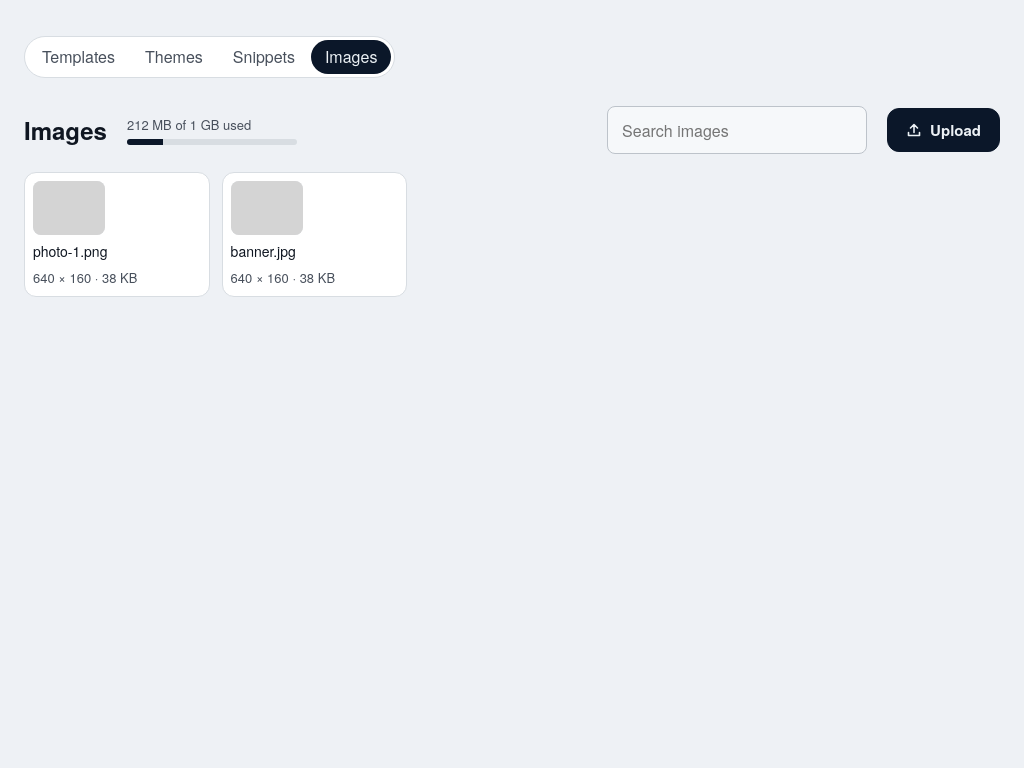
Test: the details sheet › shows the facts, a shortened hash, the link to copy and where the image is used
Click the button "banner.jpg 640 × 160 · 38 KB".
click(314, 234)  # box 222,172 -> 407,296
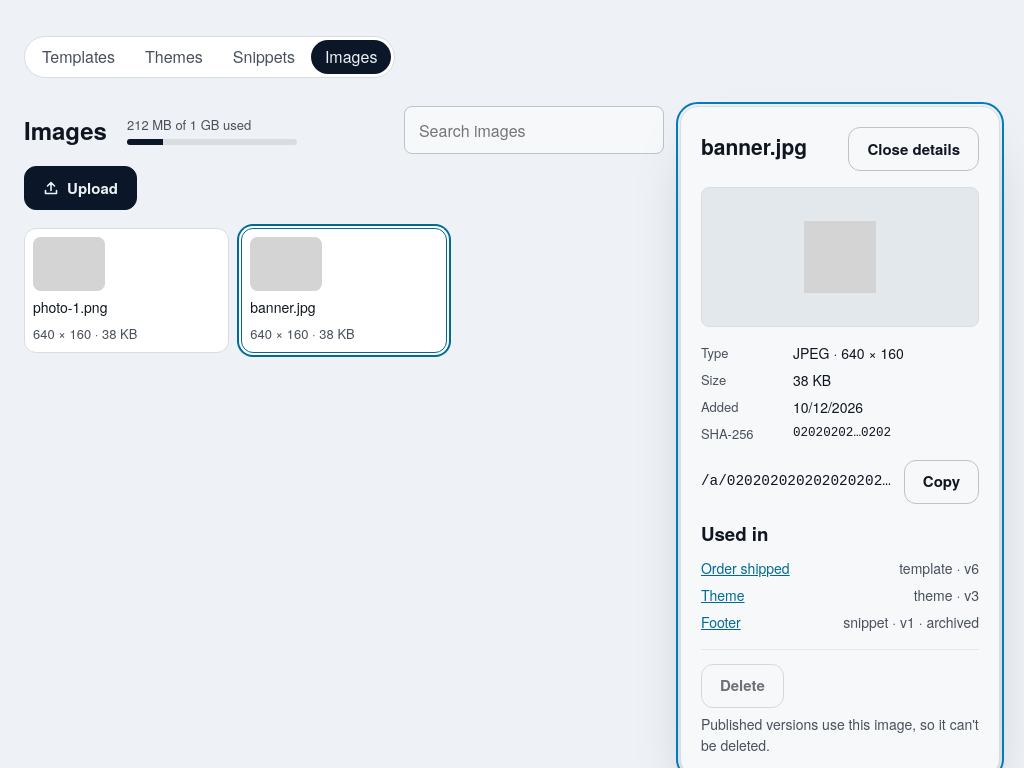
Now the text "JPEG · 640 × 160" is shown, box 793,343 -> 904,363
Now the text "02020202…0202" is shown, box 793,426 -> 891,440
Now the button with aria-label "Copy link" is shown, box 904,460 -> 979,504
